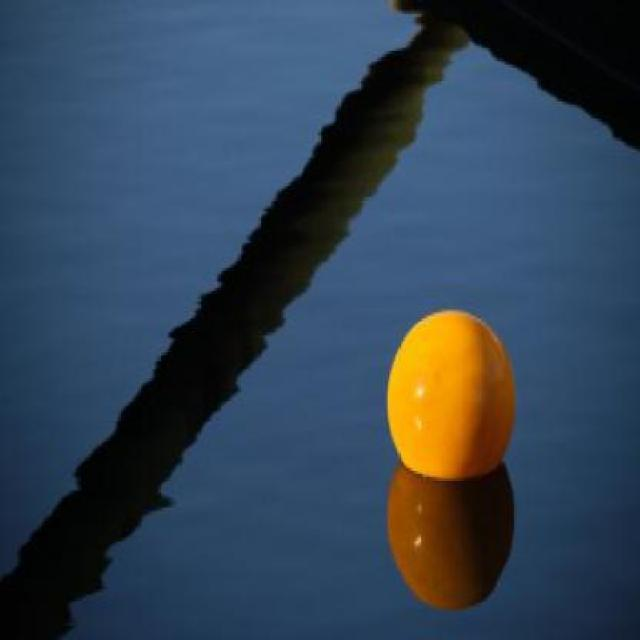a: (379, 303, 526, 492)
